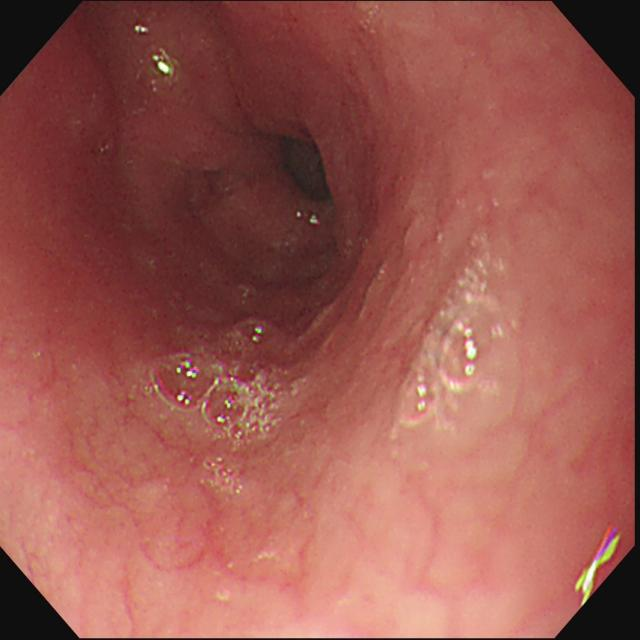E: (266, 122, 341, 211)
T: (394, 256, 510, 434), (145, 321, 294, 453)
U: (576, 528, 620, 605), (153, 49, 177, 78), (135, 24, 150, 36)
